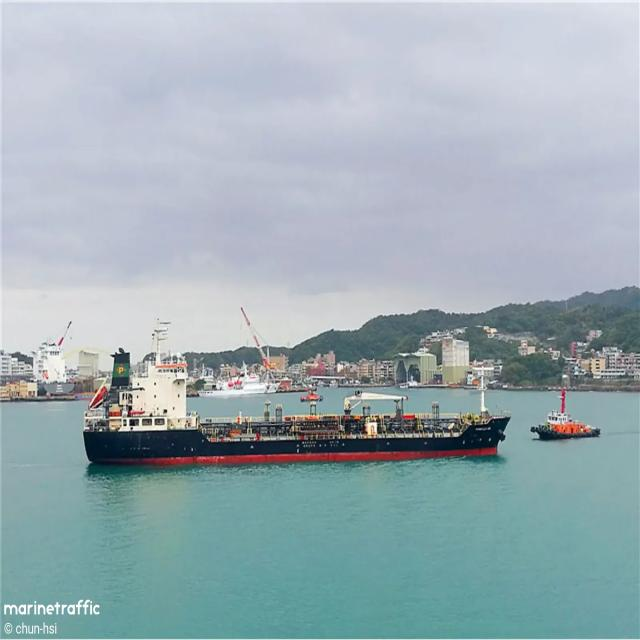Tanker: (84, 350, 510, 466)
Tug: (531, 389, 600, 440)
